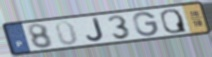0: (54, 20, 79, 47)
3: (107, 14, 133, 40)
8: (28, 23, 54, 50)
G: (132, 11, 160, 38)
J: (85, 17, 106, 43)
Q: (159, 8, 189, 35)
